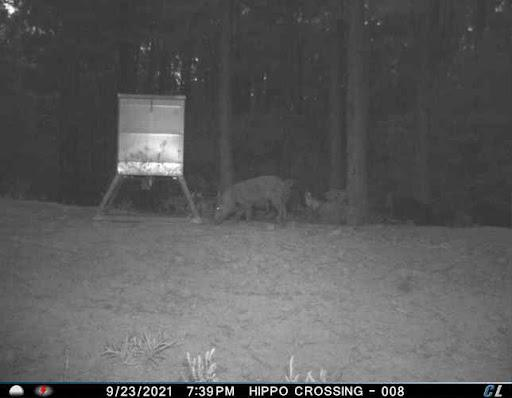Hog: (212, 169, 296, 229)
